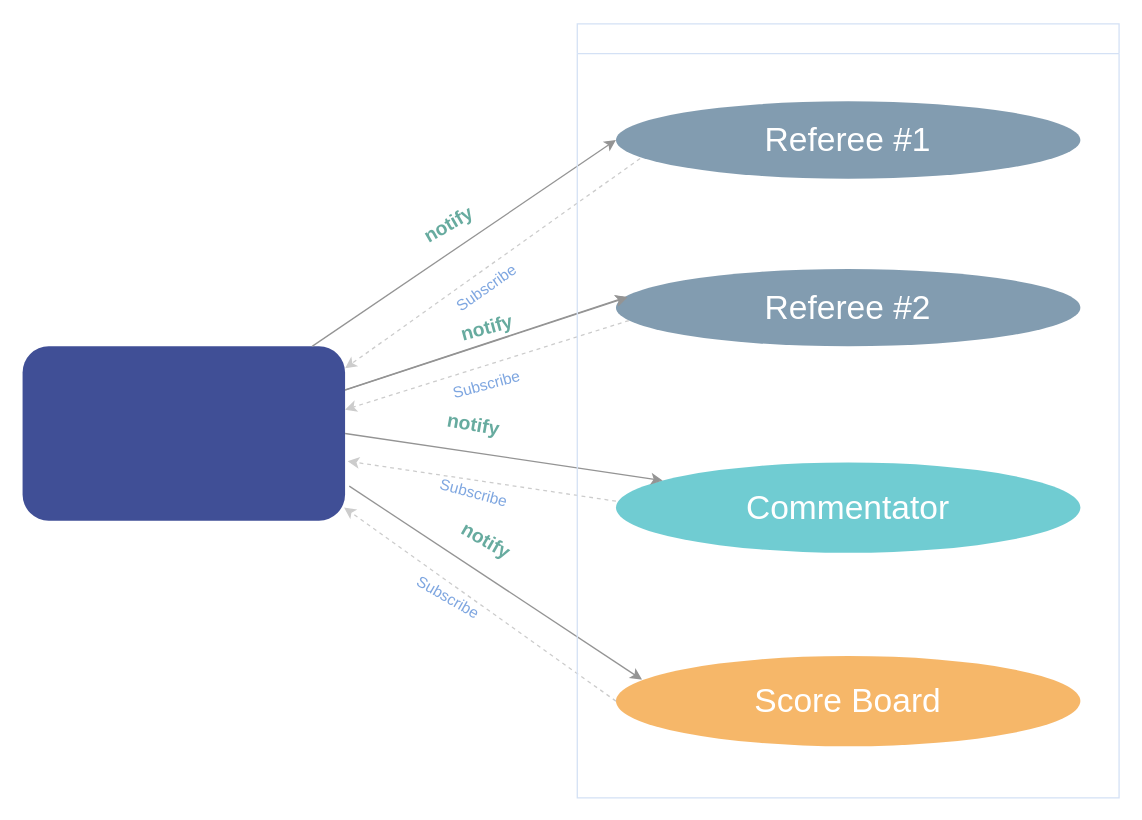
The diagram is 1142 pixels wide and 820 high, and some of its shapes have lost their labels. Here are the shapes that lost their labels. From the top down, the centre of each, then its label:
(847,410): Observers / Subscribers
(183,433): Player
